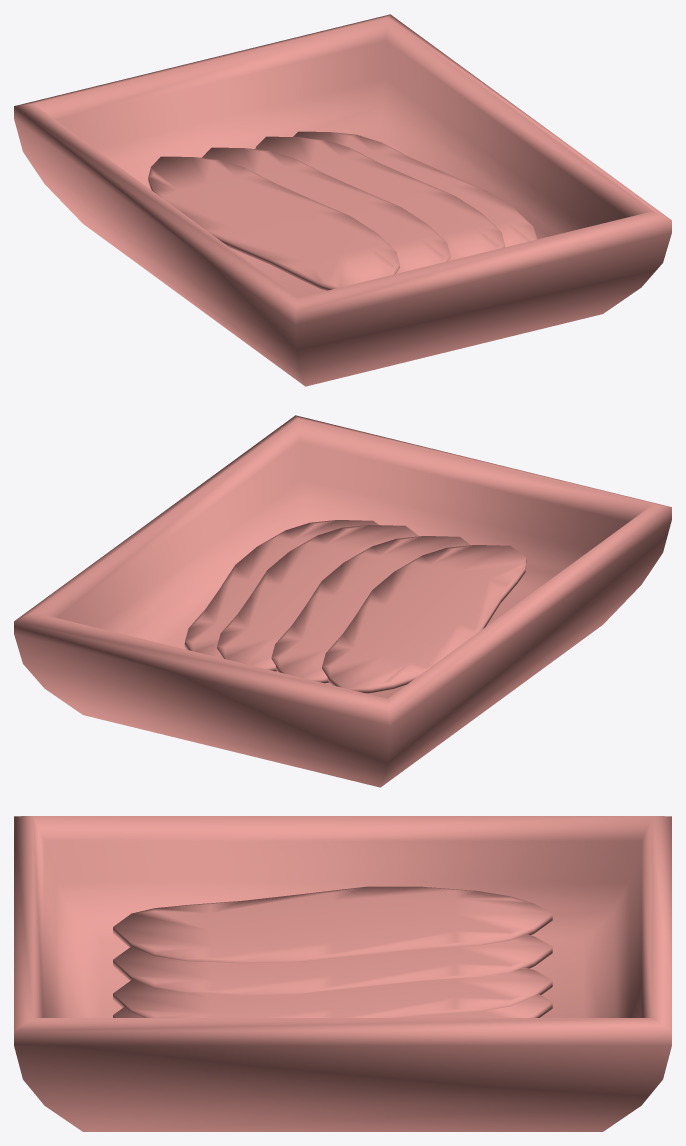
File: Prosciutto_Crudo_Plastica.fbx
3 renders of one model, top to bottom at view 1: azimuth 30°, elevation 25°; view 2: azimuth 150°, elevation 25°; view 3: azimuth 270°, elevation 25°, orthographic. The views are drawn at different scales.
Parts seen in each view (by area): view 1: vaschetta.001; view 2: vaschetta.001; view 3: vaschetta.001.
Part boxes in pixels (left/top/right/bottom): vaschetta.001: left=14, top=14, right=671, bottom=386; vaschetta.001: left=14, top=415, right=671, bottom=787; vaschetta.001: left=14, top=816, right=671, bottom=1131.
Bounding box in the file's own units: 101 × 28.59 × 131.
